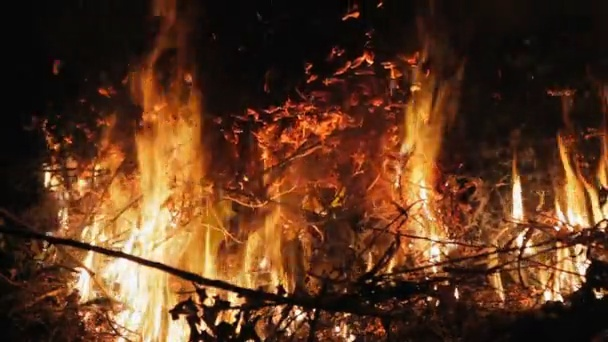fire: (42, 90, 217, 342), (396, 99, 455, 262), (555, 131, 608, 230), (244, 213, 288, 287), (506, 157, 534, 256), (540, 245, 587, 301)
